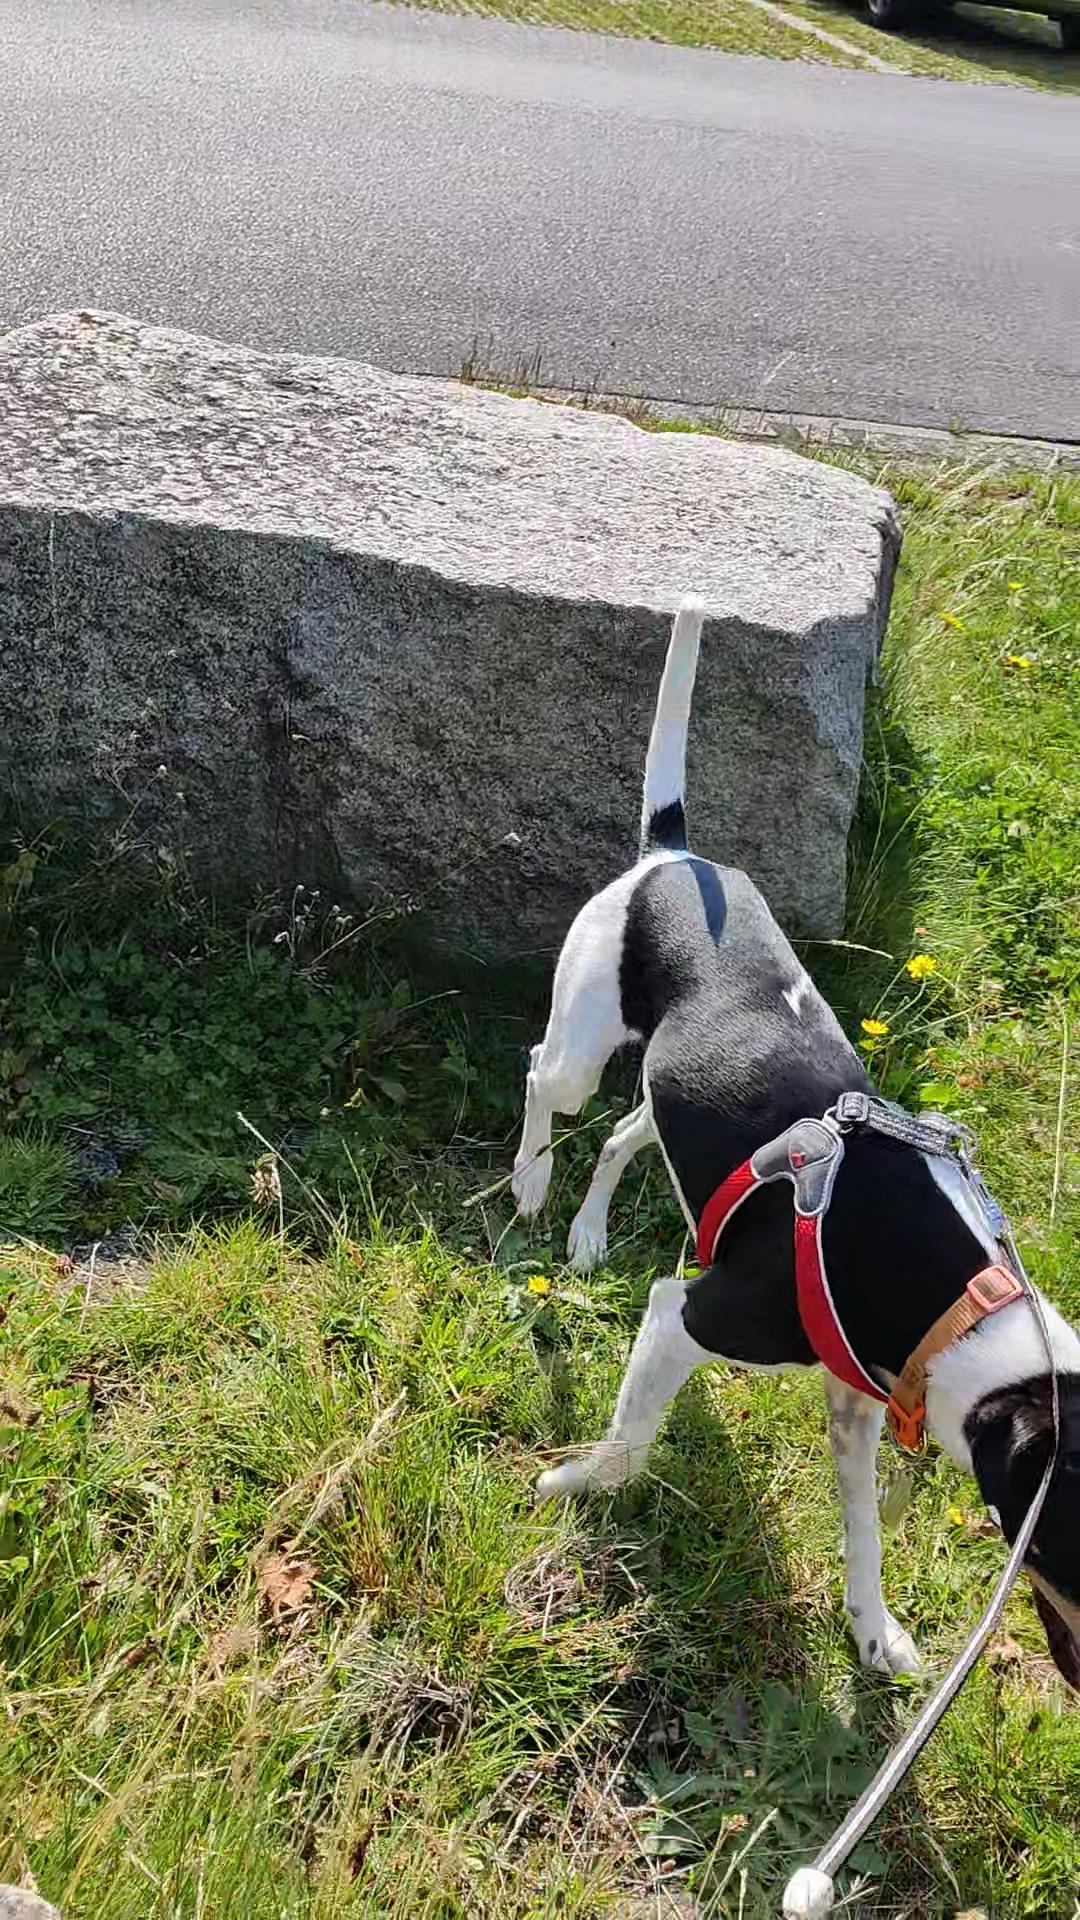Dog: (473, 576, 1079, 1727)
